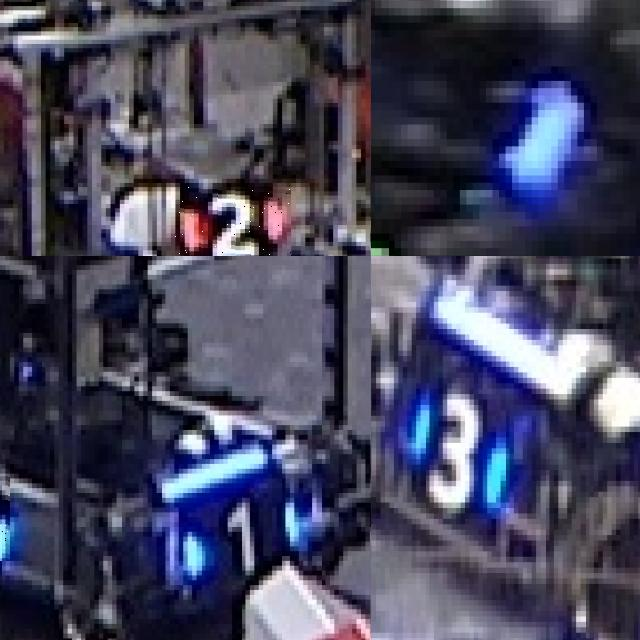B1: (183, 498, 299, 575)
B3: (398, 367, 518, 524)
R2: (175, 183, 291, 256)
